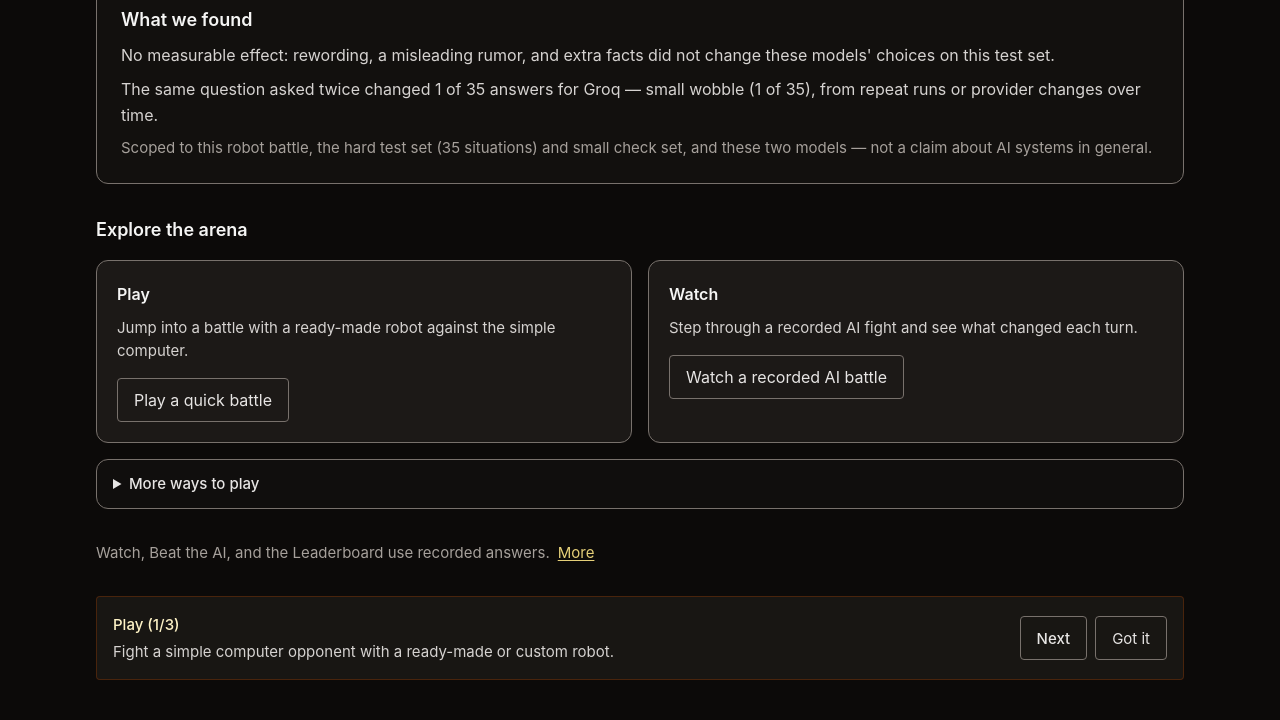
Test: FirstVisitTour › FirstVisitTour dismiss persists in localStorage
This screenshot has width=1280, height=720.
(page scrolled)
Expected: the element with test id "first-visit-tour" is shown, [96,596,1184,680]
Click the button with test id "tour-dismiss": {"x": 1131, "y": 638} [1095,616,1167,660]
(page scrolled)
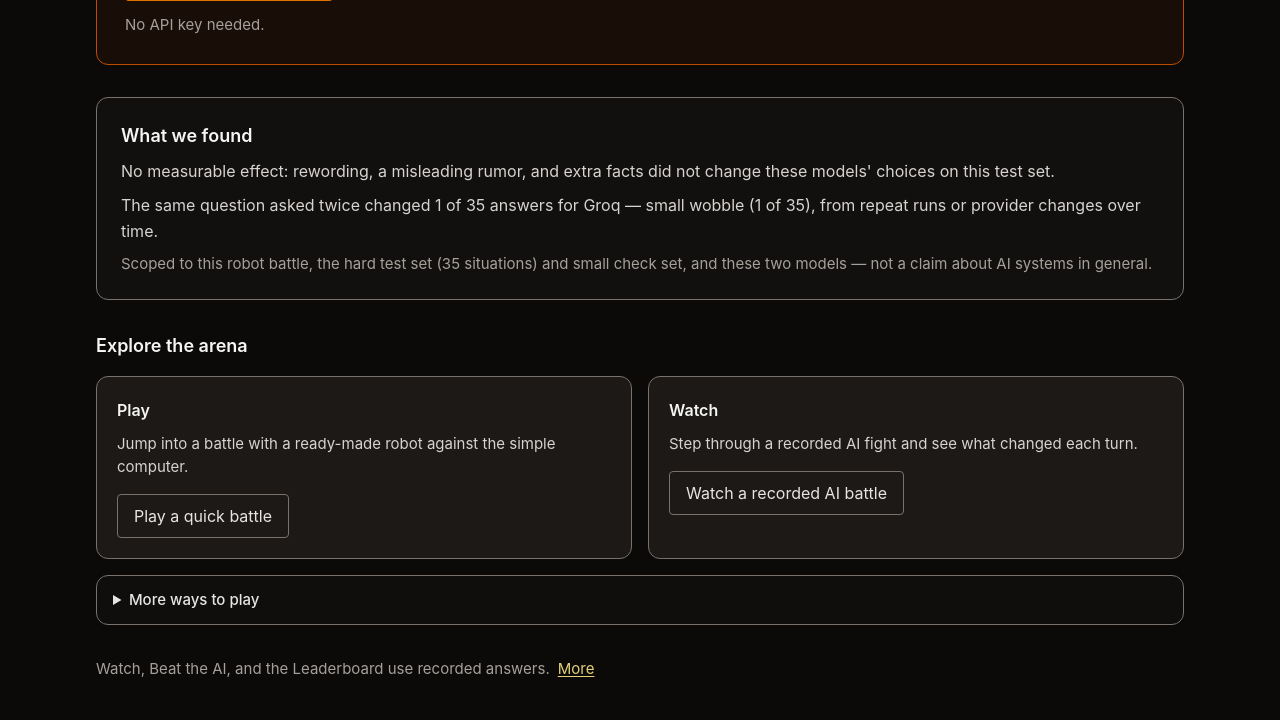
Expected: the element with test id "first-visit-tour" is gone
